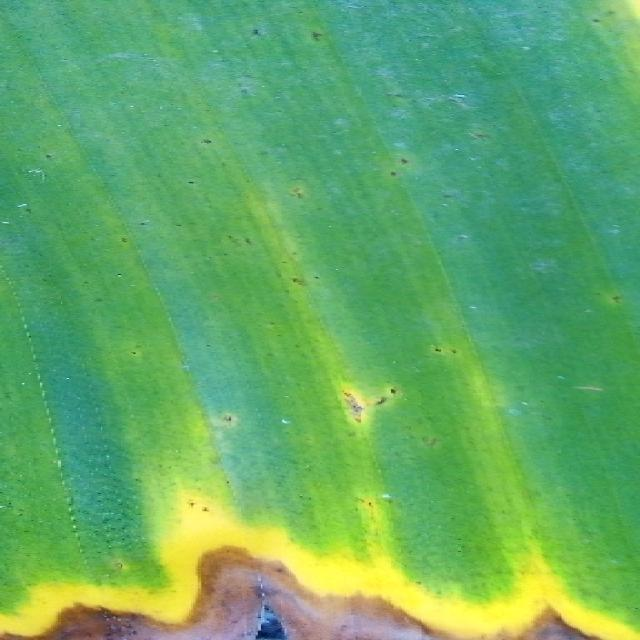Cordana: (0, 301, 640, 640), (439, 0, 640, 73)
